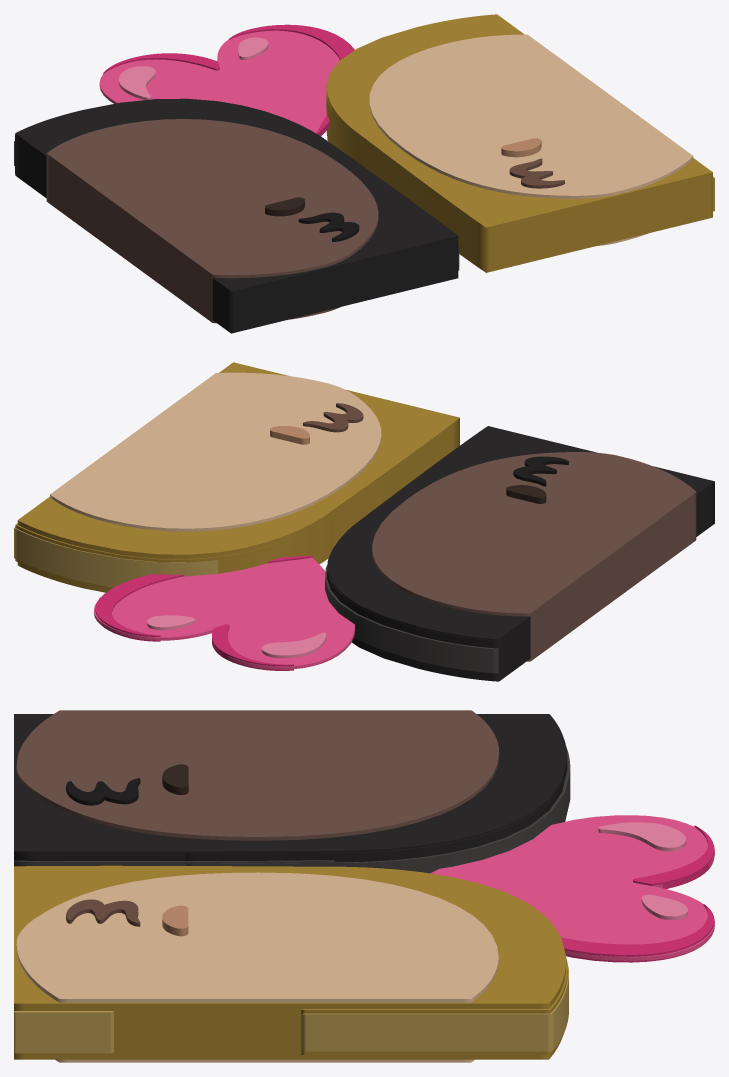
Rendered from emoji_u1f469_1f3ff_200d_2764_200d_1f48b_200d_1f469_1f3fc.glb.
3 renders of one model, top to bottom at view 1: azimuth 30°, elevation 25°; view 2: azimuth 150°, elevation 25°; view 3: azimuth 270°, elevation 25°, orthographic. The views are drawn at different scales.
Visible parts, largest first — view 1: emoji_u1f469_1f3ff_200d_2764_200d_1f48b_200d_1f469_1f3fc; view 2: emoji_u1f469_1f3ff_200d_2764_200d_1f48b_200d_1f469_1f3fc; view 3: emoji_u1f469_1f3ff_200d_2764_200d_1f48b_200d_1f469_1f3fc.
Part boxes in pixels (left/top/right/bottom): emoji_u1f469_1f3ff_200d_2764_200d_1f48b_200d_1f469_1f3fc: left=14, top=14, right=714, bottom=333; emoji_u1f469_1f3ff_200d_2764_200d_1f48b_200d_1f469_1f3fc: left=14, top=362, right=714, bottom=681; emoji_u1f469_1f3ff_200d_2764_200d_1f48b_200d_1f469_1f3fc: left=14, top=710, right=714, bottom=1062.
Bounding box in the file's own units: 0.0336 × 0.0042 × 0.0339.
